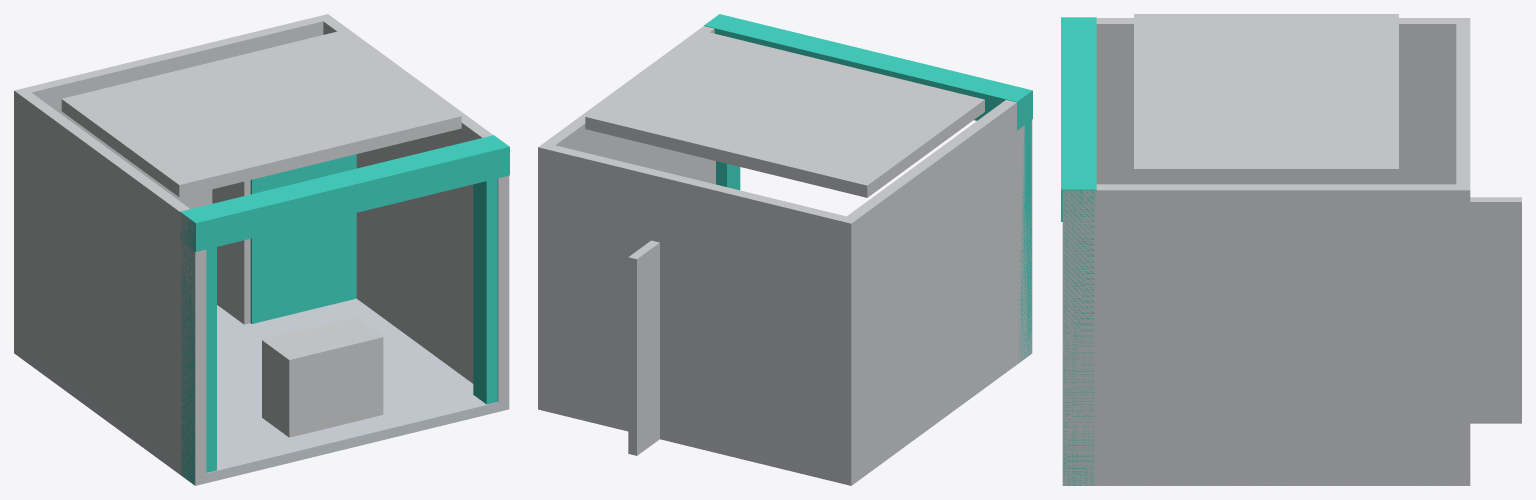
3 renders of one model, left to right at view 1: azimuth 30°, elevation 25°; view 2: azimuth 150°, elevation 25°; view 3: azimuth 270°, elevation 25°, orthographic. The views are drawn at different scales.
Visible parts, largest first — view 1: Exhibition Booth Concept; view 2: Exhibition Booth Concept; view 3: Exhibition Booth Concept.
Part boxes in pixels (x1=…): Exhibition Booth Concept: x1=14, y1=14, x2=509, y2=485; Exhibition Booth Concept: x1=538, y1=14, x2=1032, y2=485; Exhibition Booth Concept: x1=1061, y1=14, x2=1521, y2=485.
Bounding box in the file's own units: 4 × 3.34 × 4.52.
